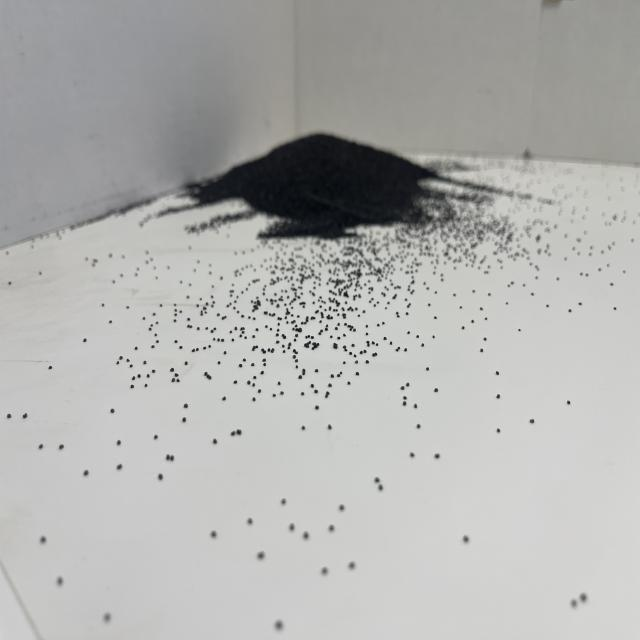Poppy Seeds: (174, 80, 515, 262)
